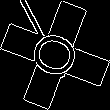O_E: (23, 26, 87, 84)
